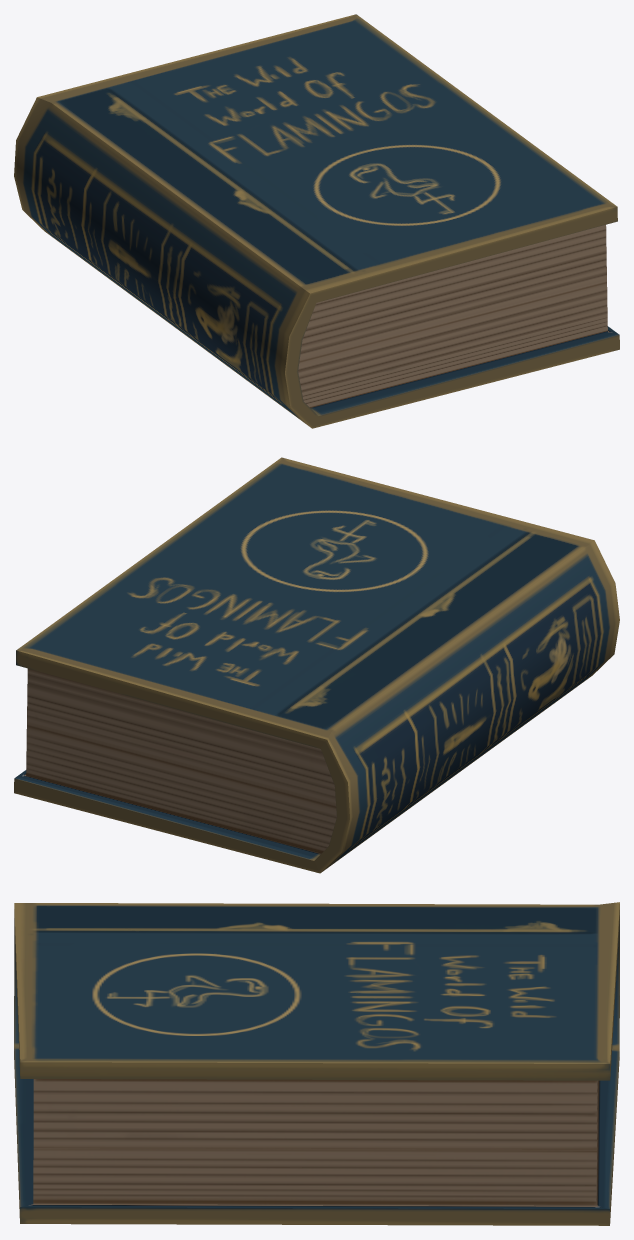
Rendered from Book_Closed_Scaled.fbx.
3 views of the same model, one above another, from view 1: azimuth 30°, elevation 25°; view 2: azimuth 150°, elevation 25°; view 3: azimuth 270°, elevation 25° (orthographic). The views are drawn at different scales.
Visible parts, largest first — view 1: BigBook_Closed; view 2: BigBook_Closed; view 3: BigBook_Closed.
Part boxes in pixels (x1,y1,x2,y2): BigBook_Closed: (14,14,619,428); BigBook_Closed: (14,457,619,873); BigBook_Closed: (14,902,619,1225).
Bounding box in the file's own units: 18.27 × 7.46 × 25.13.
